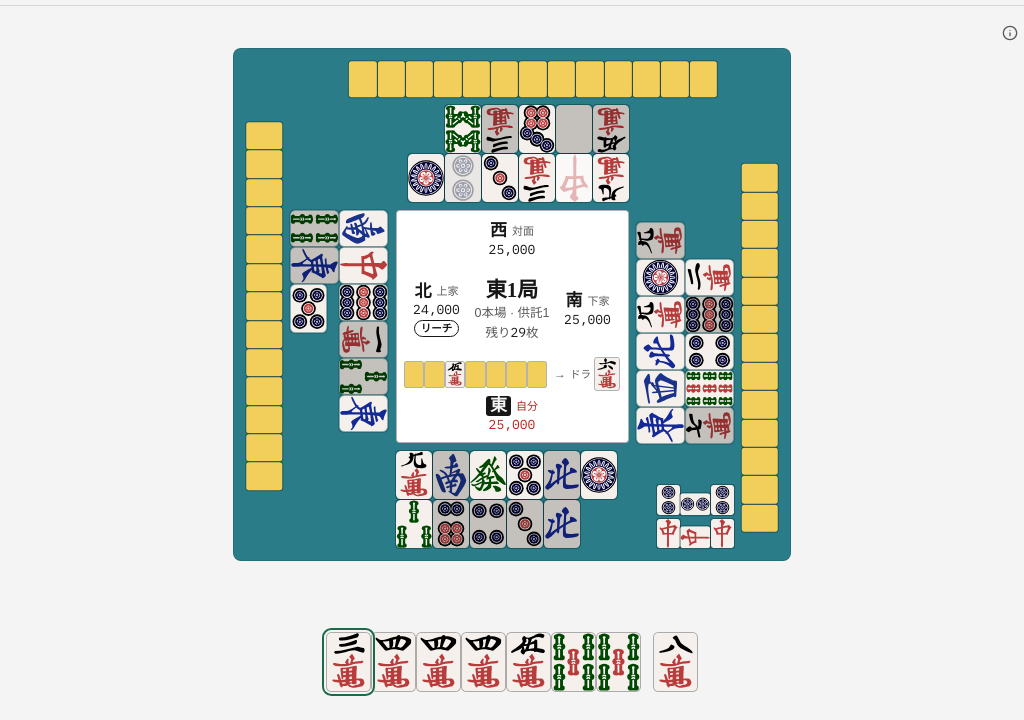
U-1・U-53 答える前は、読みの切り替えも数も札も DOM に無く、読みのコマンドも呼ばない › 答え合わせのあとに、切り替えが出る。そのとき初めて、設定と読みを読む
Click the button named "を切る".
click(676, 662)  # box x1=654 y1=634 x2=697 y2=691
(page scrolled)
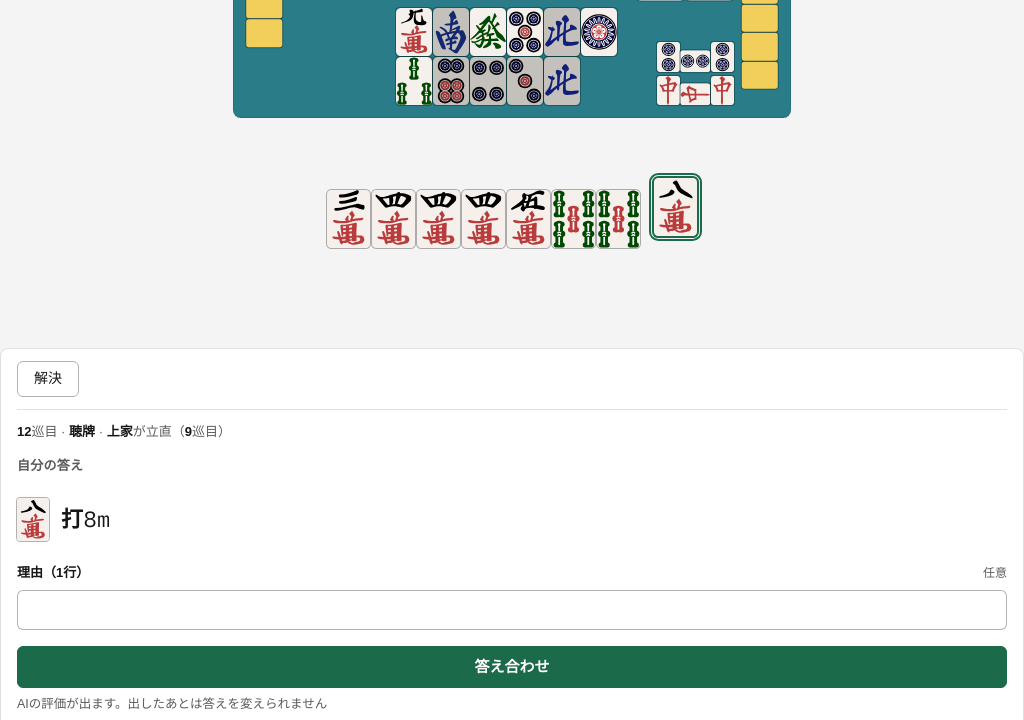
Type "待ちを避けて" into the field labelled "理由（1行）".
click(512, 610); type("待ちを避けて")  # box x1=17 y1=590 x2=1007 y2=630
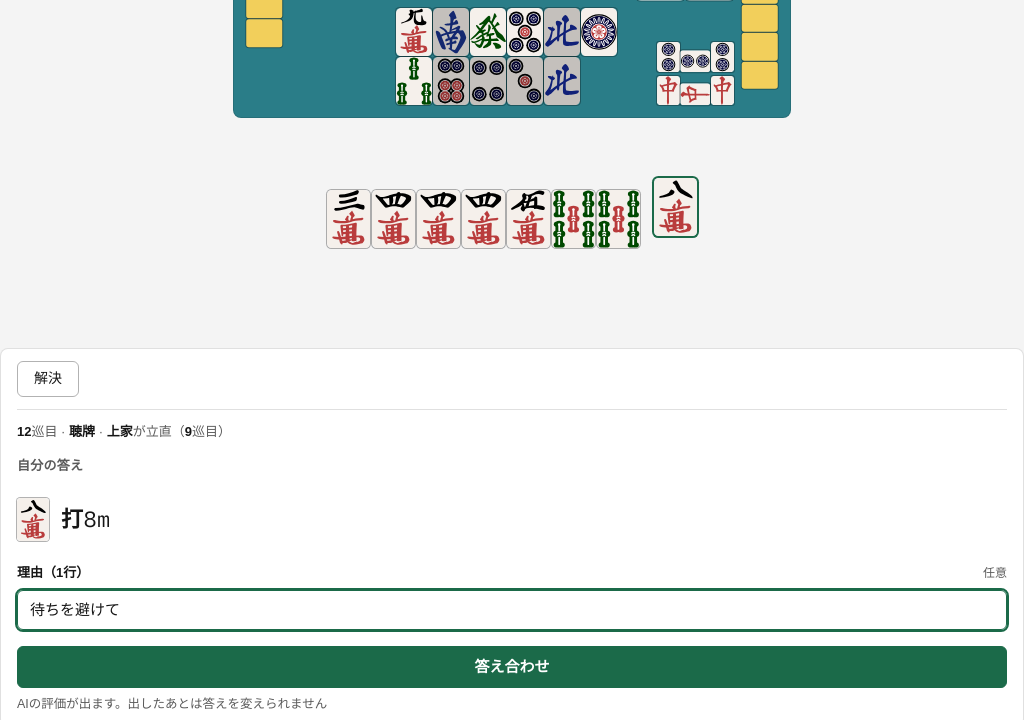
Click the button "答え合わせ".
click(512, 667)  # box x1=17 y1=646 x2=1007 y2=688
(page scrolled)
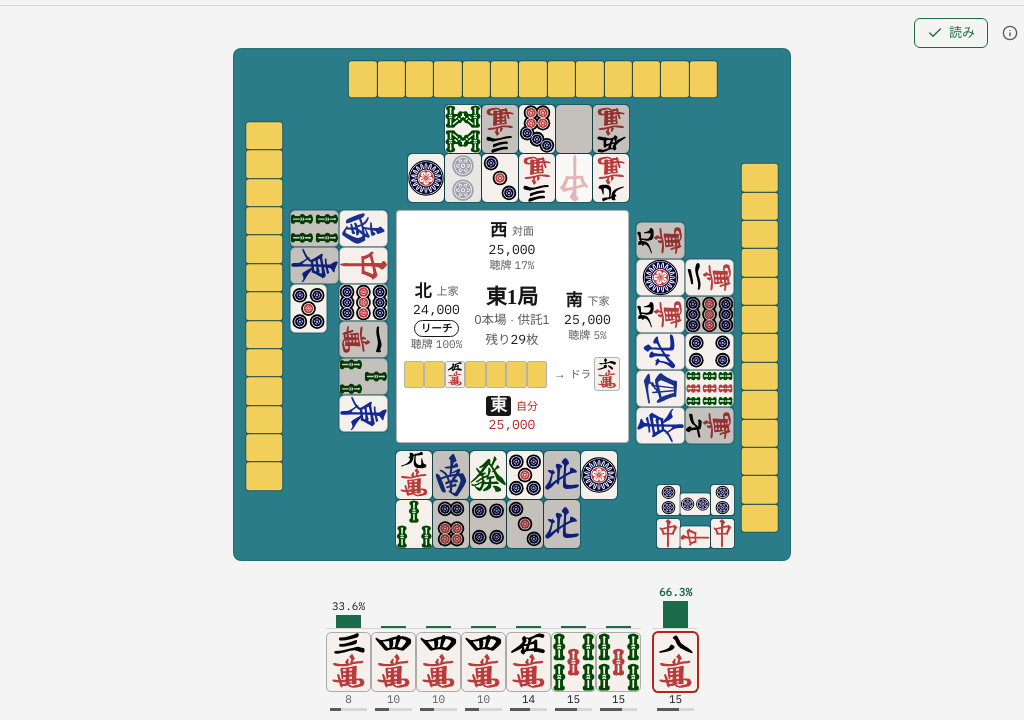
expect the button "読み" is shown: met, box x1=914 y1=18 x2=988 y2=48
